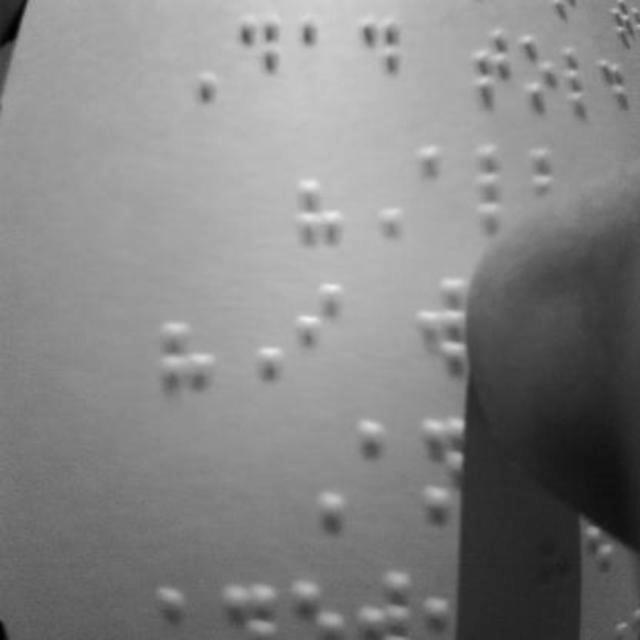braiile: (300, 175, 356, 279), (160, 320, 212, 424), (234, 5, 282, 109), (295, 5, 347, 101), (358, 12, 407, 112), (470, 19, 516, 112), (518, 28, 558, 118), (566, 31, 600, 121)
